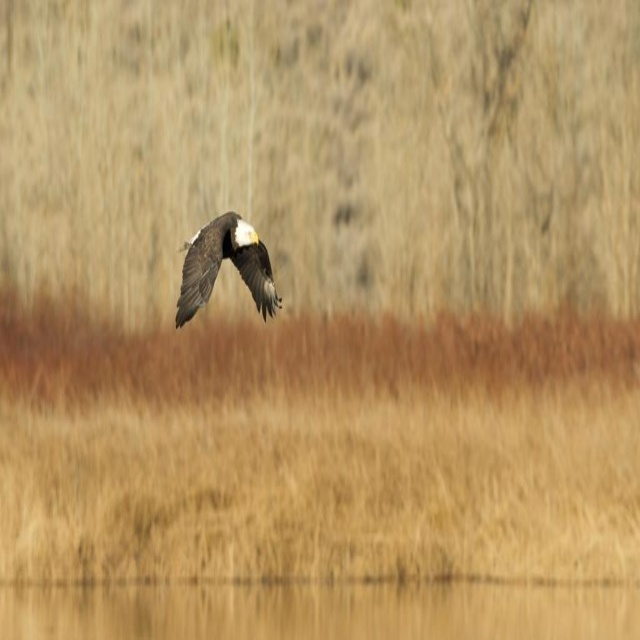Eagle: (176, 212, 289, 333)
